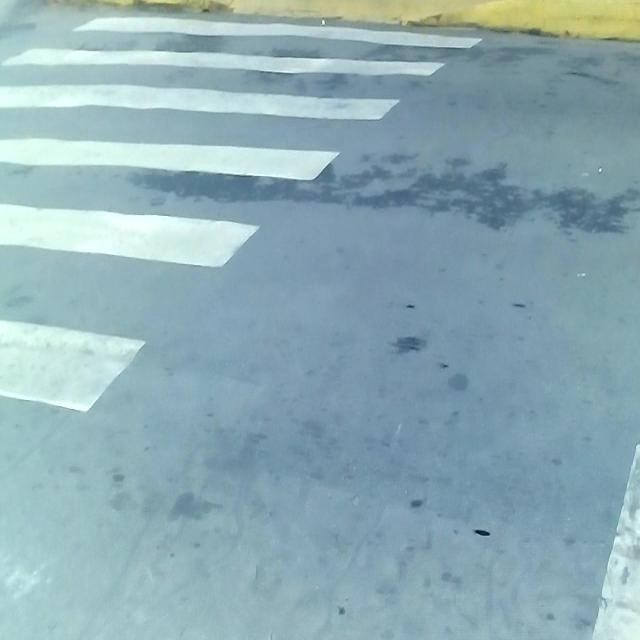crosswalk: (0, 6, 493, 547)
